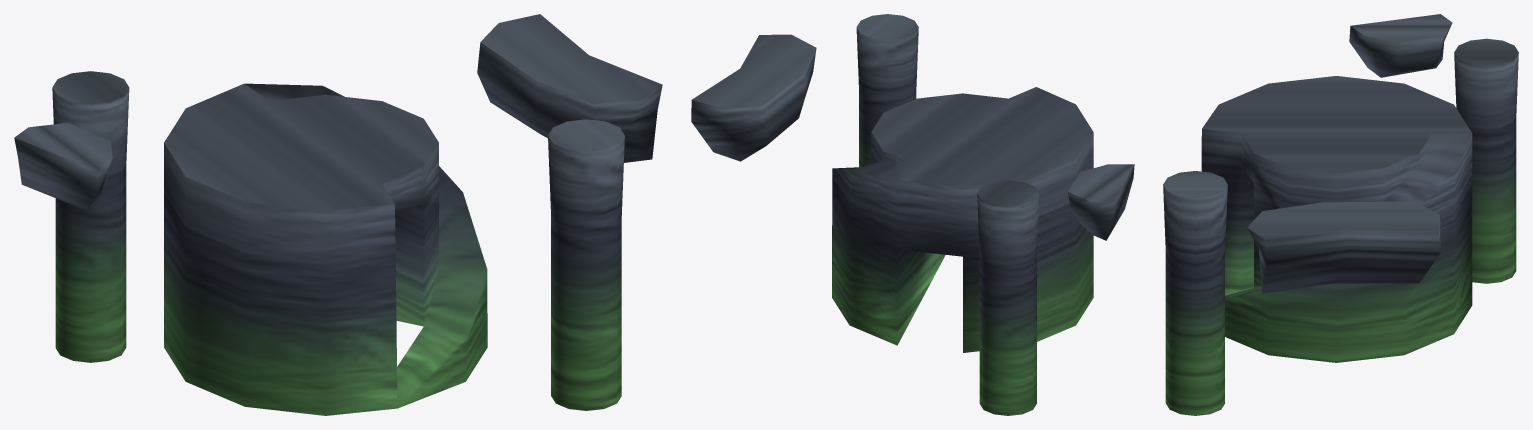
The model's file is Pantanos04.fbx.
The picture shows the model from 3 angles, left to right: view 1: azimuth 30°, elevation 25°; view 2: azimuth 150°, elevation 25°; view 3: azimuth 270°, elevation 25°; orthographic projection. The views are drawn at different scales.
Visible parts, largest first — view 1: Pantanos04; view 2: Pantanos04; view 3: Pantanos04.
Boxes of the visible parts, x1=… form: Pantanos04: x1=14, y1=14, x2=662, y2=415; Pantanos04: x1=691, y1=14, x2=1134, y2=415; Pantanos04: x1=1163, y1=14, x2=1518, y2=415.
Bounding box in the file's own units: 66.47 × 30.43 × 44.82.
